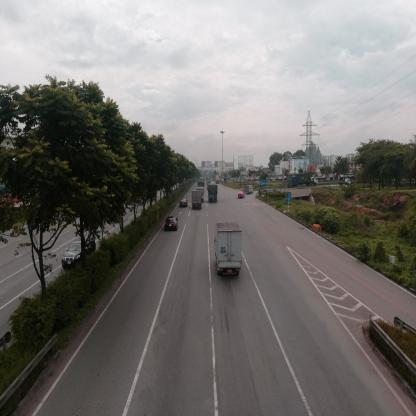car: (60, 238, 93, 269), (165, 217, 179, 233), (181, 198, 189, 209), (239, 192, 246, 203)
container: (288, 174, 319, 189)
truck: (216, 225, 244, 277), (192, 193, 203, 212), (208, 184, 217, 204), (245, 185, 254, 195), (346, 179, 352, 187)
